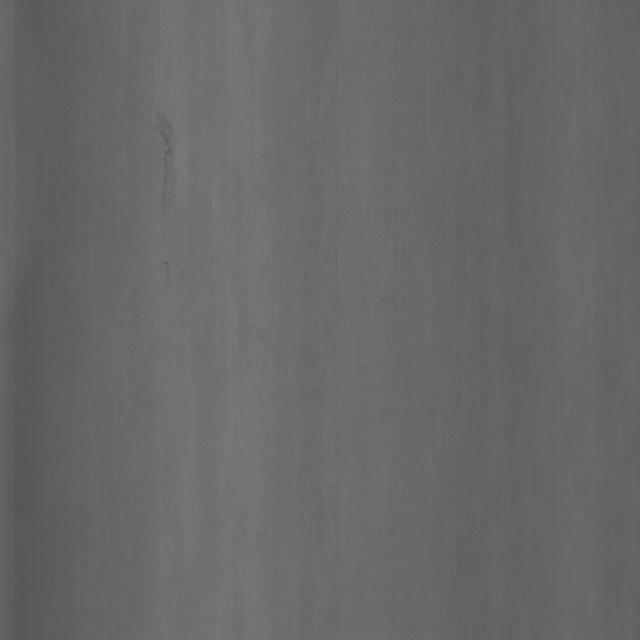water_spot: (147, 89, 198, 264)
